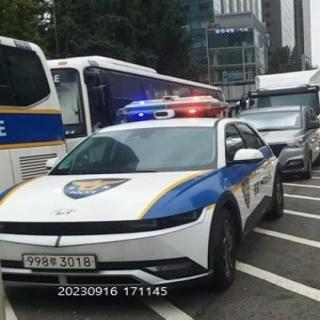Police_car: (0, 87, 286, 294), (45, 55, 228, 155), (0, 36, 66, 197)
